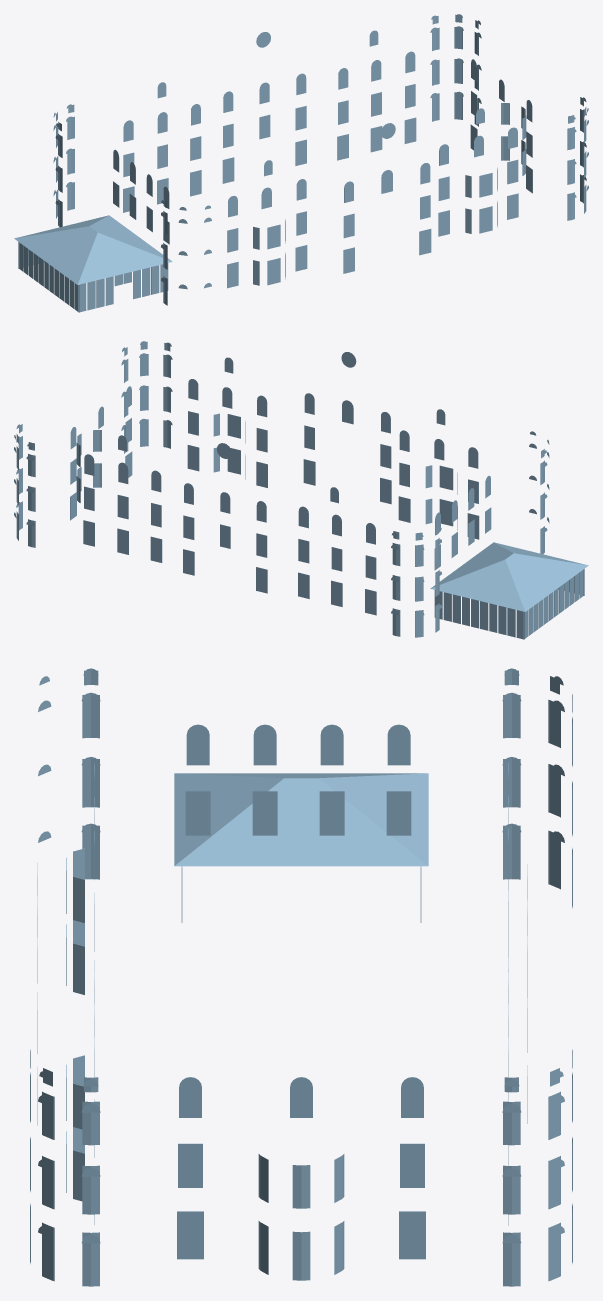
Rendered from SM_ObeliskGirls_Main_Glass.fbx.
3 views of the same model, one above another, from view 1: azimuth 30°, elevation 25°; view 2: azimuth 150°, elevation 25°; view 3: azimuth 270°, elevation 25° (orthographic). The views are drawn at different scales.
Parts seen in each view (by area): view 1: SM_ObeliskGirls_Main_Glass; view 2: SM_ObeliskGirls_Main_Glass; view 3: SM_ObeliskGirls_Main_Glass.
Boxes of the visible parts, bbox=[...] form: SM_ObeliskGirls_Main_Glass: bbox=[14, 14, 588, 312]; SM_ObeliskGirls_Main_Glass: bbox=[14, 341, 588, 639]; SM_ObeliskGirls_Main_Glass: bbox=[30, 668, 572, 1286].
Bounding box in the file's own units: 58.68 × 17.32 × 28.86.
